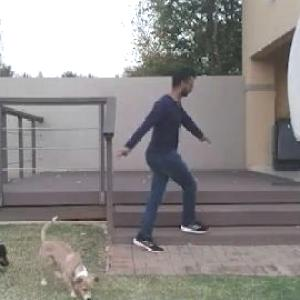land: (80, 59, 217, 257)
